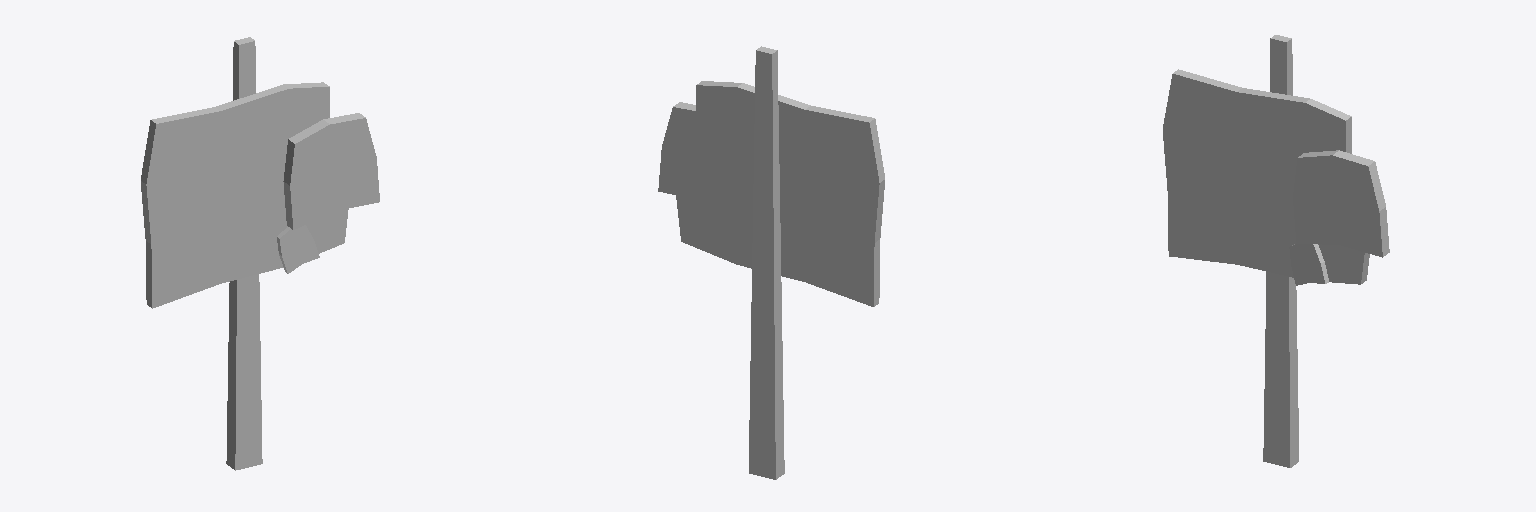
File: PROP_Sign_Beware_Of_Ogres.obj
3 views of the same model, side by side, from view 1: azimuth 30°, elevation 25°; view 2: azimuth 150°, elevation 25°; view 3: azimuth 330°, elevation 25° (orthographic).
Size of the model in its own units: 0.388 by 0.691 by 0.0643.